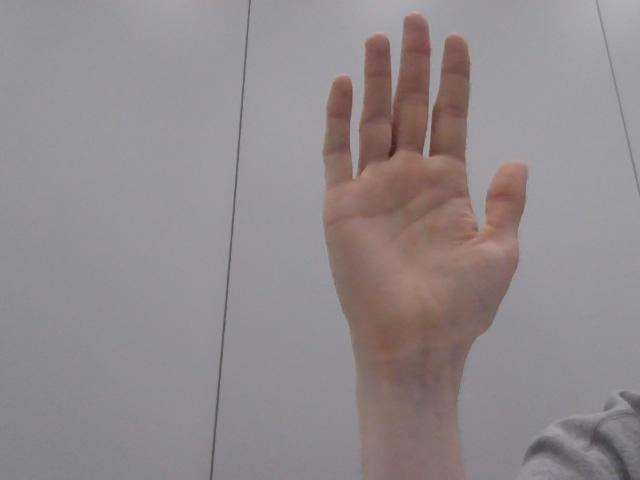nada: (289, 5, 555, 366)
